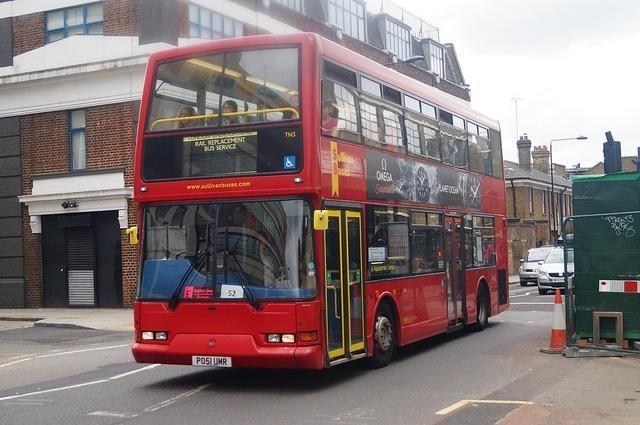bus: (126, 36, 513, 365)
car: (538, 245, 574, 295), (519, 246, 553, 286)
